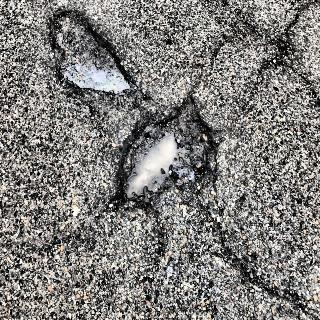crack: (207, 209, 320, 313)
pothole: (112, 96, 225, 206), (47, 6, 132, 99)
